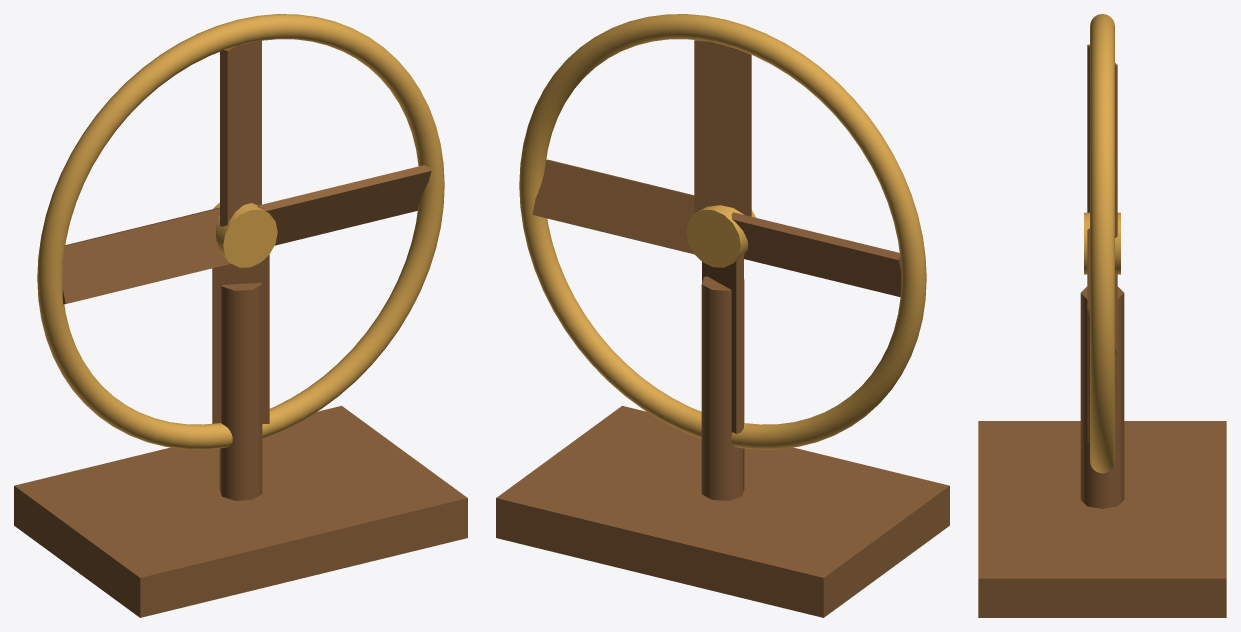
Rendered from fan.glb.
3 views of the same model, side by side, from view 1: azimuth 30°, elevation 25°; view 2: azimuth 150°, elevation 25°; view 3: azimuth 270°, elevation 25° (orthographic).
Parts seen in each view (by area): view 1: Base, Cage, Blade1, Post, Blade0, Blade3, Blade2, Hub; view 2: Base, Cage, Blade0, Blade3, Post, Blade1, Hub, Blade2; view 3: Base, Cage, Post, Blade0, Hub, Blade3, Blade2.
Part boxes in pixels (box(x1,y1,x2,y2)): Base: box(14, 405, 467, 617); Cage: box(37, 14, 444, 449); Blade1: box(62, 208, 230, 304); Post: box(219, 282, 262, 500); Blade0: box(220, 40, 261, 226); Blade3: box(258, 165, 431, 245); Blade2: box(212, 255, 269, 424); Hub: box(213, 202, 277, 267); Base: box(496, 405, 949, 617); Cage: box(519, 14, 926, 449); Blade0: box(694, 38, 751, 216); Blade3: box(532, 159, 694, 254); Post: box(701, 276, 744, 500); Blade1: box(731, 212, 901, 297); Hub: box(686, 205, 756, 267); Blade2: box(702, 254, 743, 433); Base: box(978, 421, 1226, 617); Cage: box(1090, 14, 1114, 473); Post: box(1080, 286, 1124, 508); Blade0: box(1087, 44, 1117, 237); Hub: box(1084, 212, 1120, 274); Blade3: box(1087, 228, 1117, 353); Blade2: box(1087, 310, 1089, 442).
Size of the model in its own units: 1.48 by 1.79 by 0.8.
